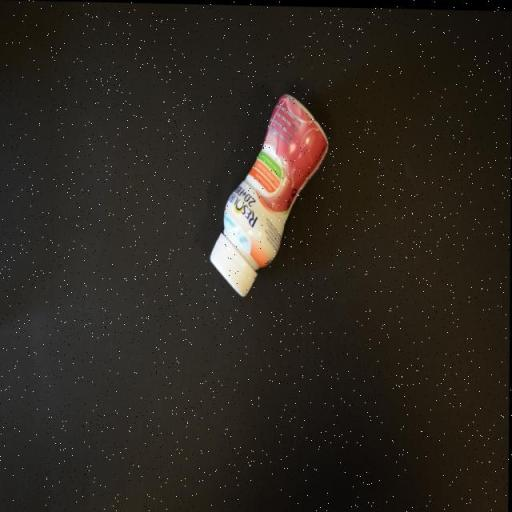plastic: (208, 86, 329, 300)
